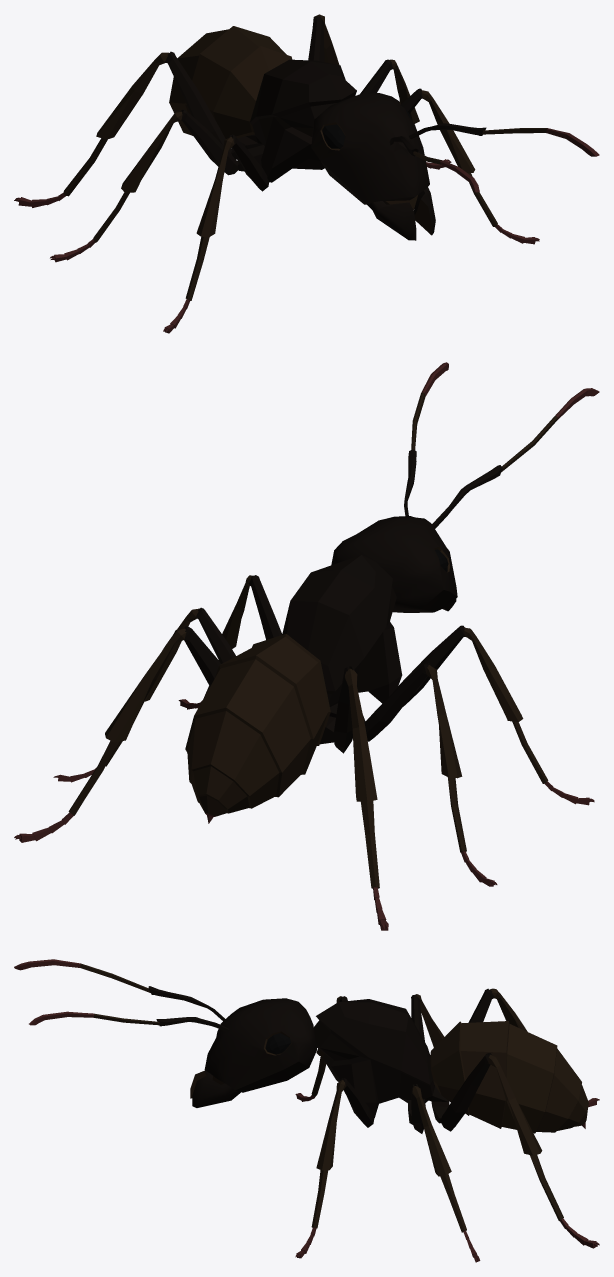
File: ant.gltf
The picture shows the model from 3 angles, top to bottom: view 1: azimuth 30°, elevation 25°; view 2: azimuth 150°, elevation 25°; view 3: azimuth 270°, elevation 25°; orthographic projection. The views are drawn at different scales.
Visible parts, largest first — view 1: Head.015, Body.024, Body.023, Left_Leg_02.189, Left_Leg_02.186, Left_Leg_02.188, Left_Leg_02.192, Left_Leg_02.183, Left_Leg_02.191, Left_Leg_02.185, Left_Leg_02.179, Left_Leg_02.177 (+1 smaller); view 2: Body.023, Body.024, Head.015, Left_Leg_02.189, Left_Leg_02.180, Left_Leg_02.192, Left_Leg_02.186, Left_Leg_02.191, Left_Leg_02.188, Left_Leg_02.179, Left_Leg_02.185, Left_Leg_02.182 (+2 smaller); view 3: Body.023, Head.015, Body.024, Left_Leg_02.180, Left_Leg_02.177, Left_Leg_02.183, Left_Leg_02.179, Left_Leg_02.182, Left_Leg_02.192, Left_Leg_02.189, Left_Leg_02.188.
Boxes of the visible parts, x1,y1,x2,y2 form: Head.015: (311,93,599,240); Body.024: (231,59,356,182); Body.023: (169,26,292,138); Left_Leg_02.189: (63,52,168,196); Left_Leg_02.186: (185,137,234,300); Left_Leg_02.188: (164,51,232,154); Left_Leg_02.192: (93,111,182,242); Left_Leg_02.183: (421,90,497,226); Left_Leg_02.191: (180,109,238,175); Left_Leg_02.185: (229,134,269,191); Left_Leg_02.179: (308,16,324,61); Left_Leg_02.177: (389,59,419,123); Body.023: (185,634,330,823); Body.024: (282,555,402,744); Head.015: (331,362,599,612); Left_Leg_02.189: (345,668,379,888); Left_Leg_02.180: (68,628,186,815); Left_Leg_02.192: (426,665,466,852); Left_Leg_02.186: (464,627,548,783); Left_Leg_02.191: (364,663,430,741); Left_Leg_02.188: (334,666,354,753); Left_Leg_02.179: (183,626,220,686); Left_Leg_02.185: (392,625,465,706); Left_Leg_02.182: (249,575,282,639); Body.023: (430,1021,588,1133); Head.015: (14,959,316,1107); Body.024: (314,999,449,1124); Left_Leg_02.180: (488,1054,563,1220); Left_Leg_02.177: (412,1086,466,1232); Left_Leg_02.183: (311,1080,345,1228); Left_Leg_02.179: (440,1053,491,1131); Left_Leg_02.182: (340,1078,374,1127); Left_Leg_02.192: (416,994,444,1047); Left_Leg_02.189: (490,988,527,1031); Left_Leg_02.188: (468,988,494,1022).
Bounding box in the file's own units: 8.07 × 4.42 × 11.44.
